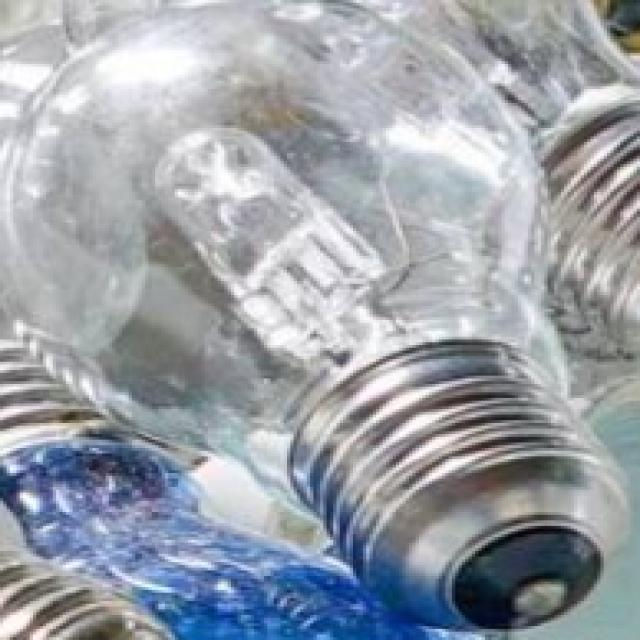bulb: (23, 0, 640, 628)
